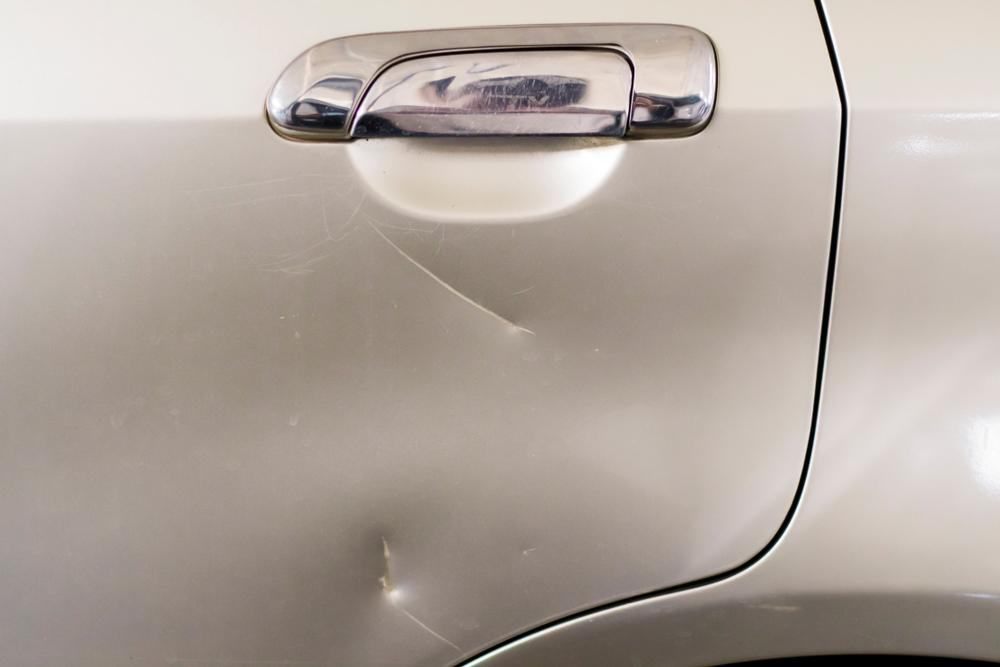dent: (334, 494, 457, 636), (388, 239, 544, 346)
